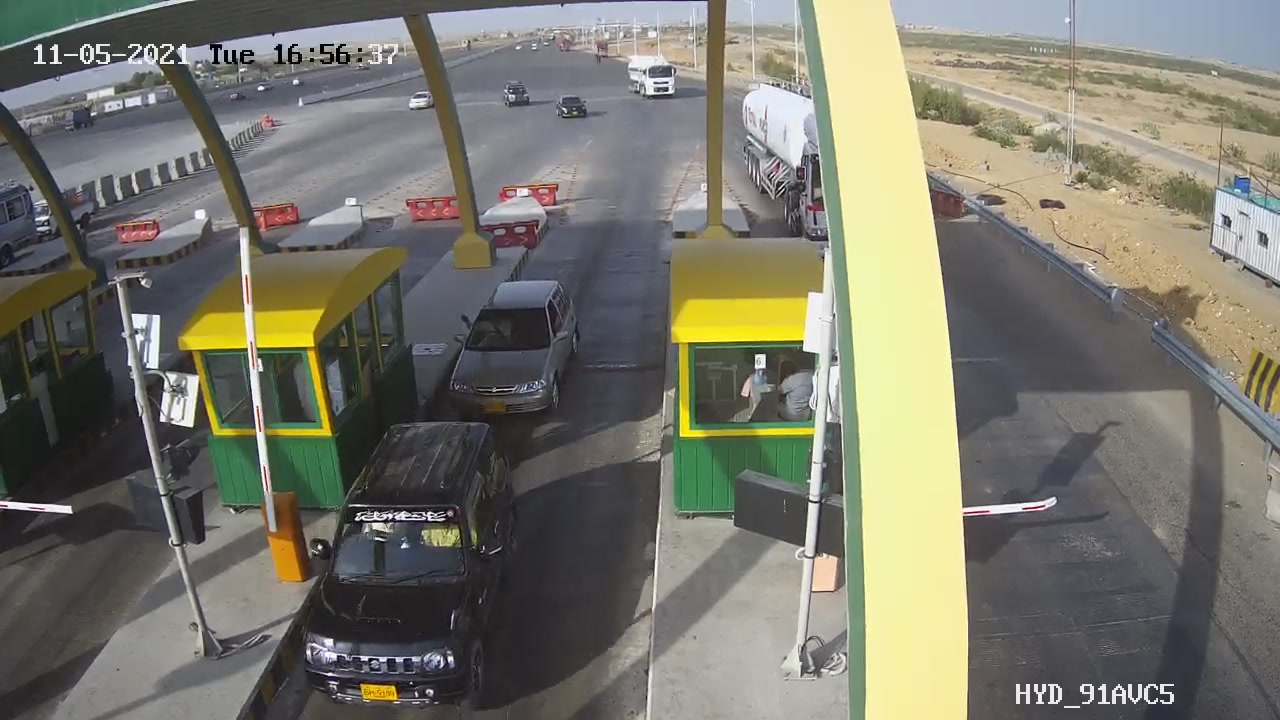F1: (436, 262, 596, 442)
